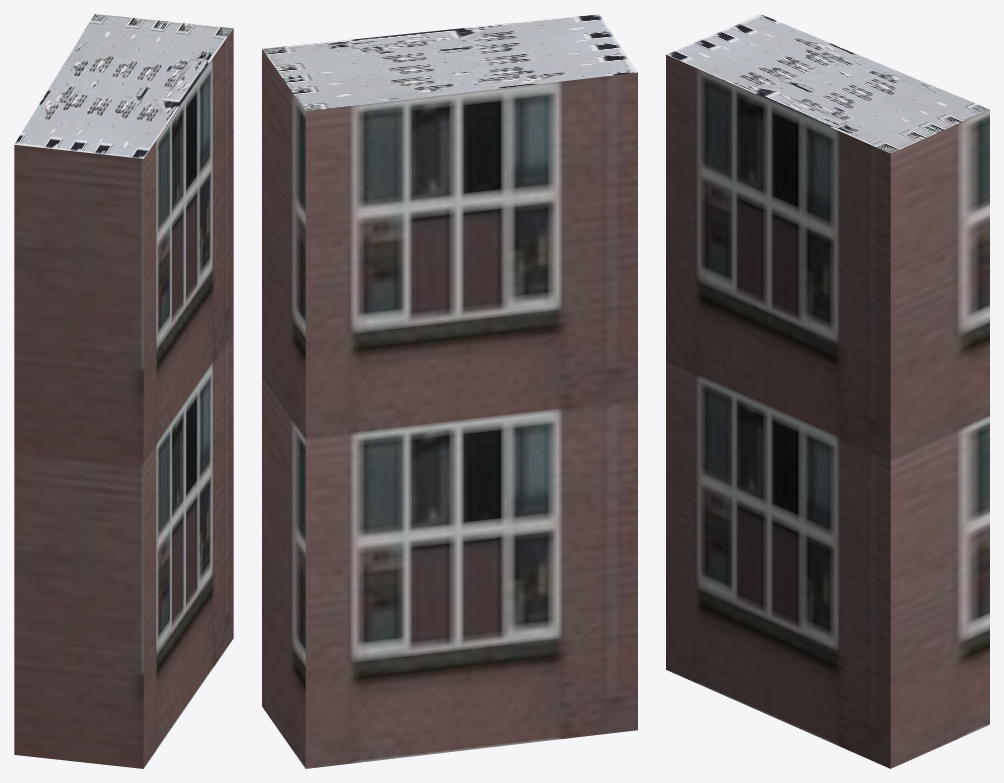
File: ResTex__1448.fbx
3 renders of one model, left to right at view 1: azimuth 30°, elevation 25°; view 2: azimuth 150°, elevation 25°; view 3: azimuth 270°, elevation 25°, orthographic. The views are drawn at different scales.
Visible parts, largest first — view 1: CityEngineMaterial_12_m, CityEngineMaterial_4_m; view 2: CityEngineMaterial_12_m, CityEngineMaterial_4_m; view 3: CityEngineMaterial_12_m, CityEngineMaterial_4_m.
Boxes of the visible parts, x1,y1,x2,y2 form: CityEngineMaterial_12_m: (14, 29, 233, 768); CityEngineMaterial_4_m: (14, 14, 233, 158); CityEngineMaterial_12_m: (262, 49, 637, 768); CityEngineMaterial_4_m: (262, 14, 637, 111); CityEngineMaterial_12_m: (666, 54, 989, 768); CityEngineMaterial_4_m: (666, 14, 989, 153).
Size of the model in its own units: 2.92 by 6 by 2.86.
2 materials, 2 textured.
